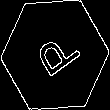P_SW: (27, 26, 83, 84)
